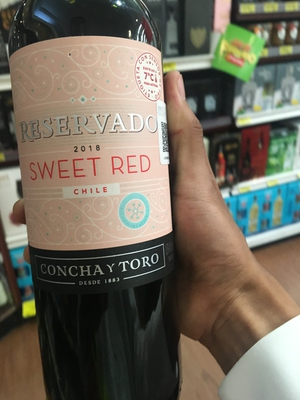reservado sweet red: (12, 8, 185, 395)
